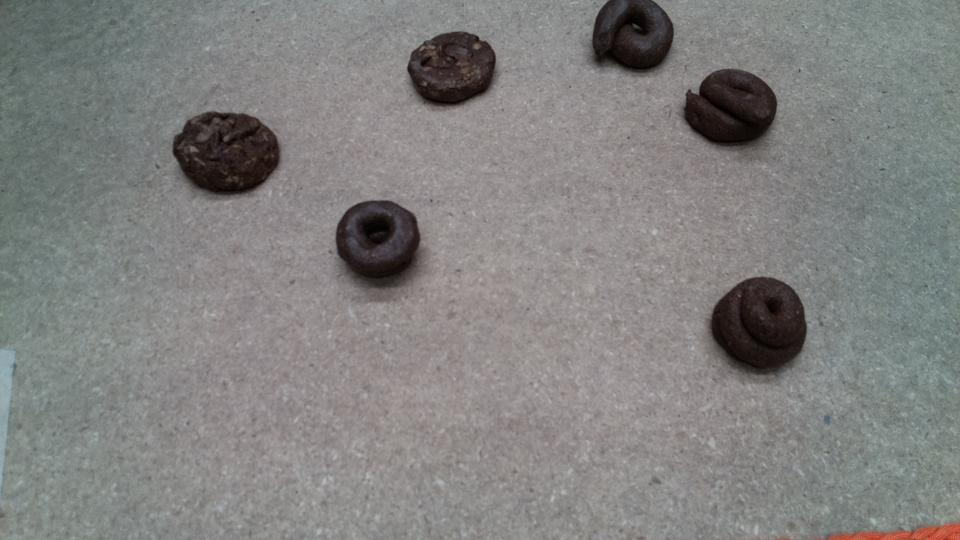poop: (171, 103, 291, 206), (709, 270, 811, 374), (680, 58, 783, 152), (404, 31, 505, 107), (337, 198, 419, 280), (592, 2, 678, 77)
